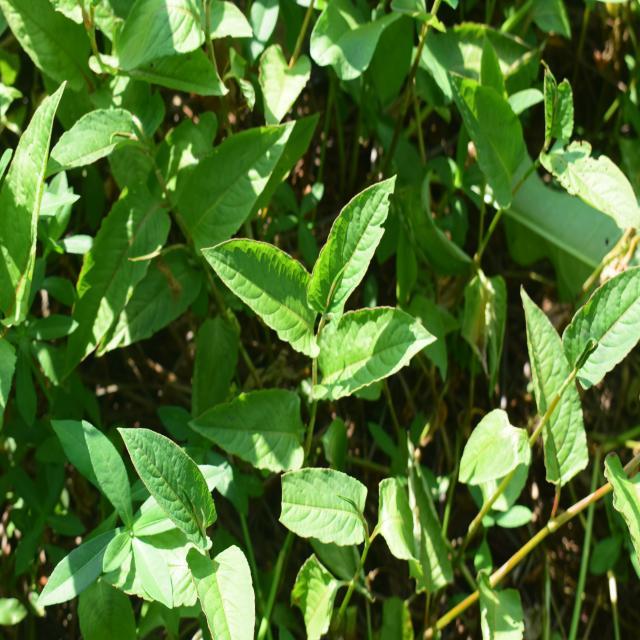Chinese_knotweed: (221, 180, 411, 448), (499, 281, 640, 517), (122, 419, 263, 632), (268, 444, 425, 590)
